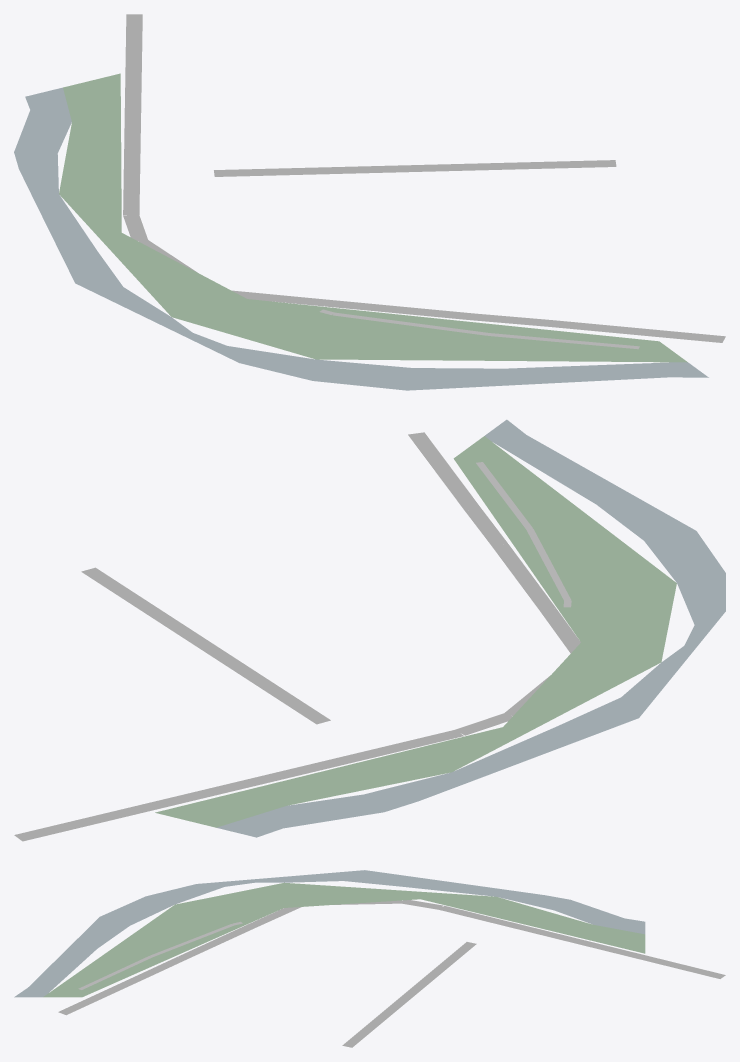
3 views of the same model, one above another, from view 1: azimuth 30°, elevation 25°; view 2: azimuth 150°, elevation 25°; view 3: azimuth 270°, elevation 25° (orthographic). The views are drawn at different scales.
Bounding box in the file's own units: 262 × 0.3822 × 442.
